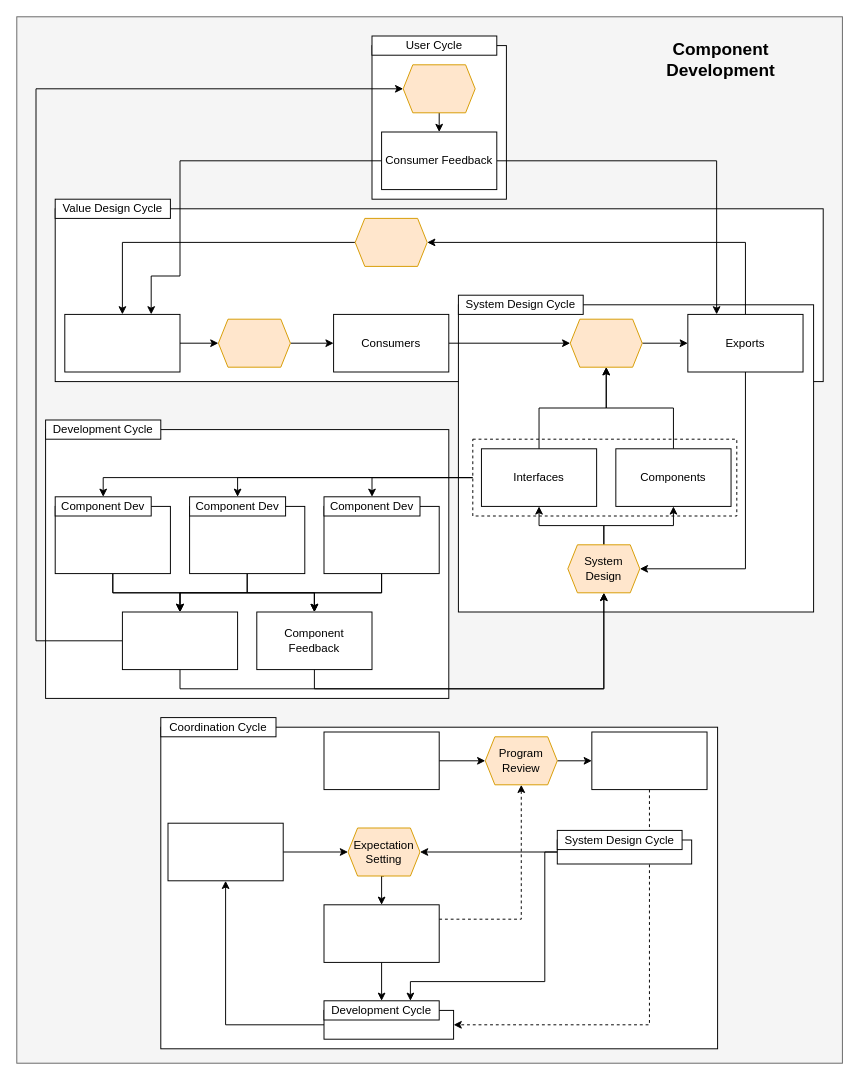
Some shapes in this 859 by 1080 pixel diagram are drawn without their labels. The centre of each missing label's shape, as x and y in pixels:
Component Increments: (x=179, y=640)
Consumer Timeline: (x=381, y=760)
Development Rates: (x=225, y=851)
Expected Timeline: (x=381, y=933)
Export Design: (x=605, y=342)
Ideation: (x=390, y=241)
Product Use: (x=438, y=88)
Research: (x=253, y=342)
Resourcing Changes: (x=649, y=760)
Value Propositions: (x=122, y=342)
